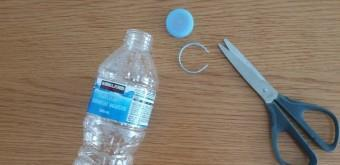bottle: (71, 29, 158, 165)
